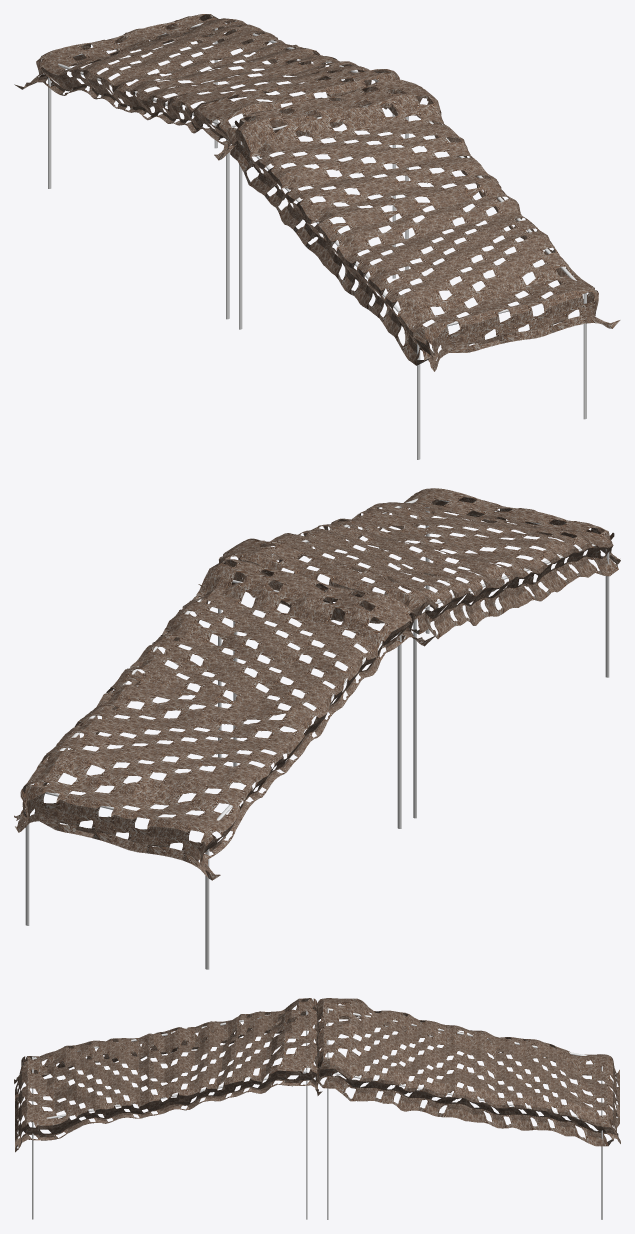
File: Mini_Tent_Solidified.fbx
3 renders of one model, top to bottom at view 1: azimuth 30°, elevation 25°; view 2: azimuth 150°, elevation 25°; view 3: azimuth 270°, elevation 25°, orthographic. The views are drawn at different scales.
Visible parts, largest first — view 1: Sheet, Sheet.001, Frame, Frame.001; view 2: Sheet.001, Sheet, Frame.001, Frame; view 3: Sheet.001, Sheet, Frame.001, Frame.
Boxes of the visible parts, left/top/right/bottom form: Sheet: left=228, top=79, right=620, bottom=371; Sheet.001: left=14, top=14, right=399, bottom=160; Frame: left=239, top=105, right=586, bottom=459; Frame.001: left=48, top=22, right=395, bottom=319; Sheet.001: left=14, top=559, right=436, bottom=880; Sheet: left=198, top=488, right=620, bottom=640; Frame.001: left=25, top=580, right=401, bottom=969; Frame: left=233, top=498, right=609, bottom=818; Sheet.001: left=314, top=998, right=620, bottom=1146; Sheet: left=14, top=998, right=322, bottom=1152; Frame.001: left=327, top=1008, right=602, bottom=1219; Frame: left=32, top=1010, right=307, bottom=1219.
Size of the model in its own units: 1288 by 1211 by 4100.
